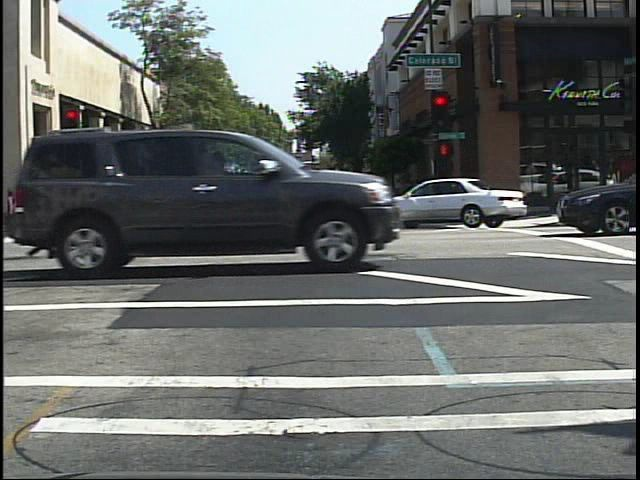person: (106, 180, 126, 225)
